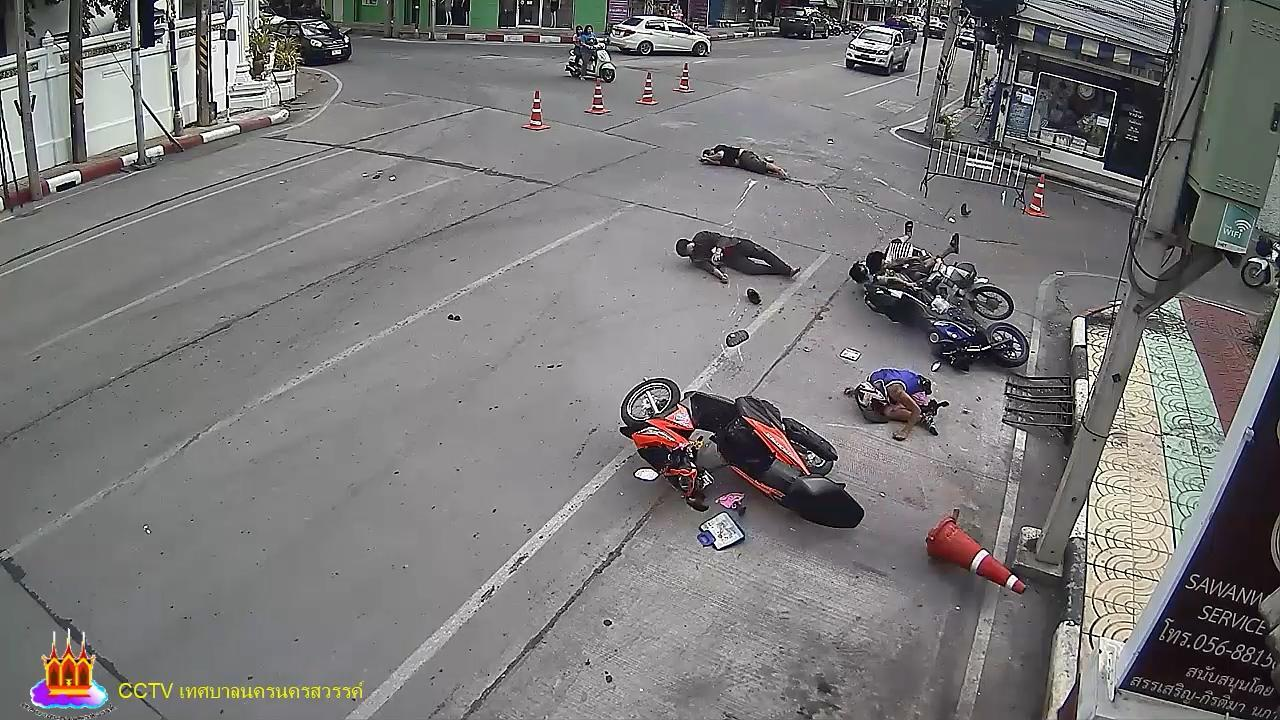accident: (673, 229, 802, 288), (854, 368, 948, 444), (698, 142, 791, 186)
